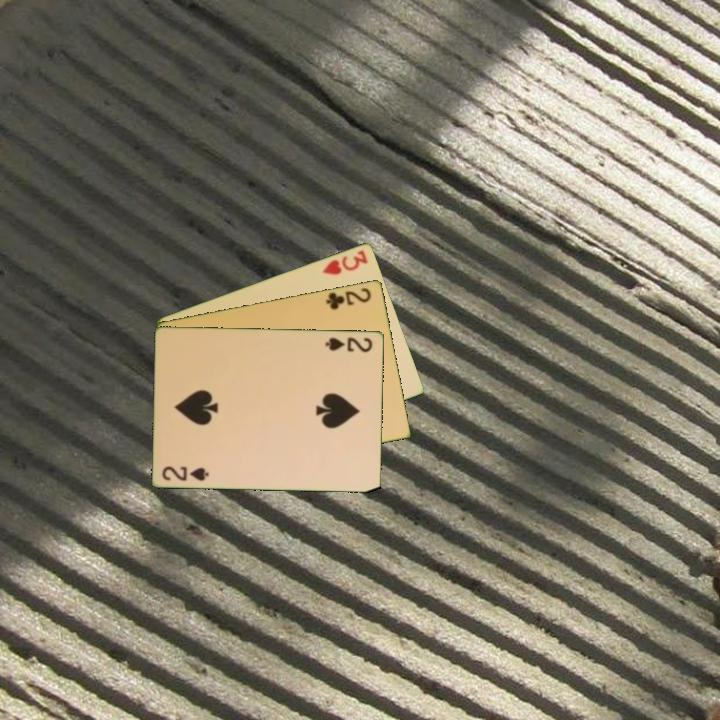2c: (323, 284, 374, 312)
2s: (159, 462, 212, 484), (322, 334, 375, 355)
3h: (319, 246, 371, 278)
